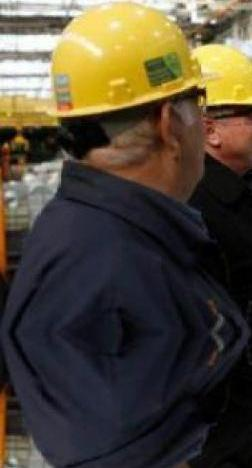hard-hat: (48, 1, 204, 119)
